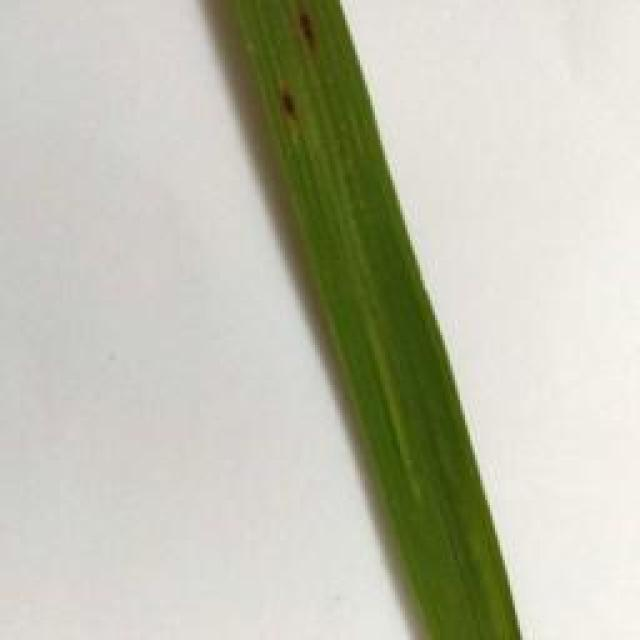Brown_Spot: (293, 0, 329, 58), (274, 84, 303, 135)
